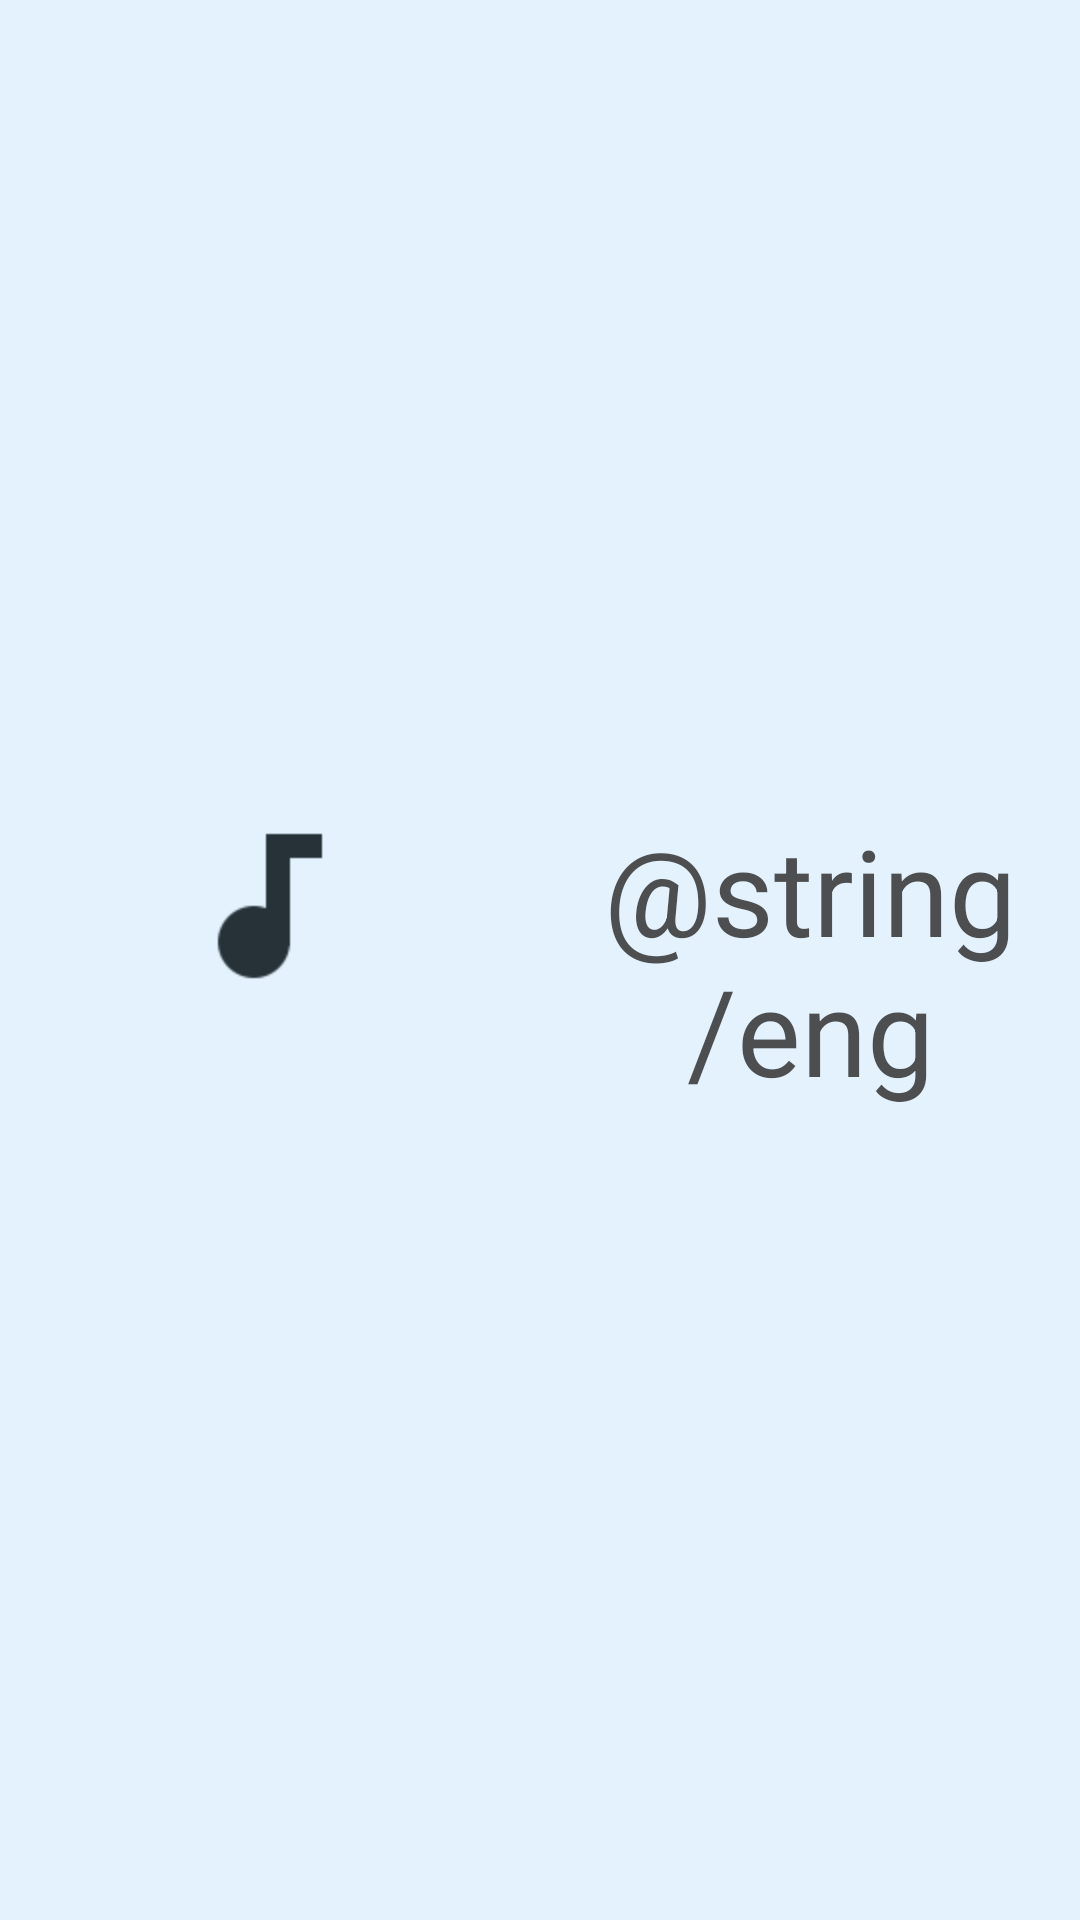

Screen size 1080*1920. Icon name, then its center in pixels as (x,y):
audiotrack: (270,906)
